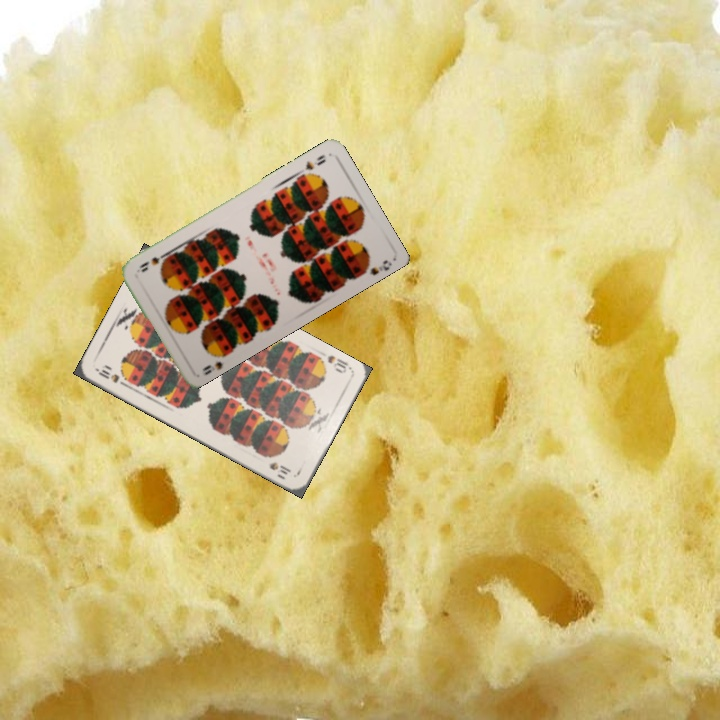S10: (92, 364, 130, 389), (323, 351, 351, 376)
S9: (294, 151, 328, 177), (198, 350, 230, 374)
